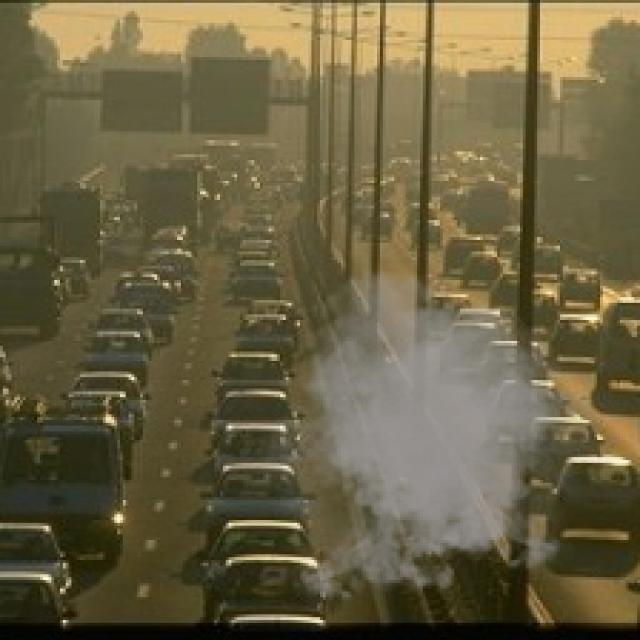Smoke: (246, 266, 614, 612)
